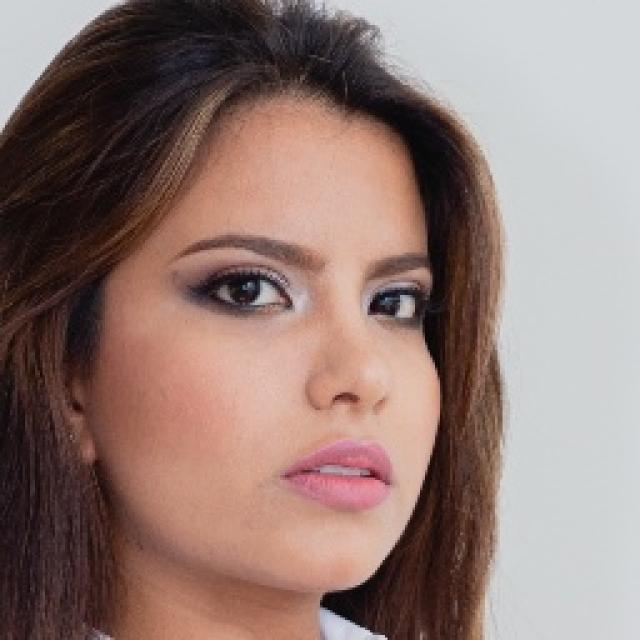earlobe: (55, 409, 99, 466)
eye: (205, 268, 295, 314), (372, 286, 422, 320)
nose: (314, 396, 391, 434)
